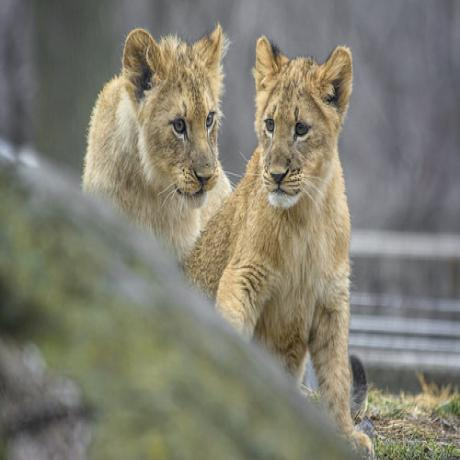Lion: (235, 25, 355, 438), (84, 19, 228, 255)
